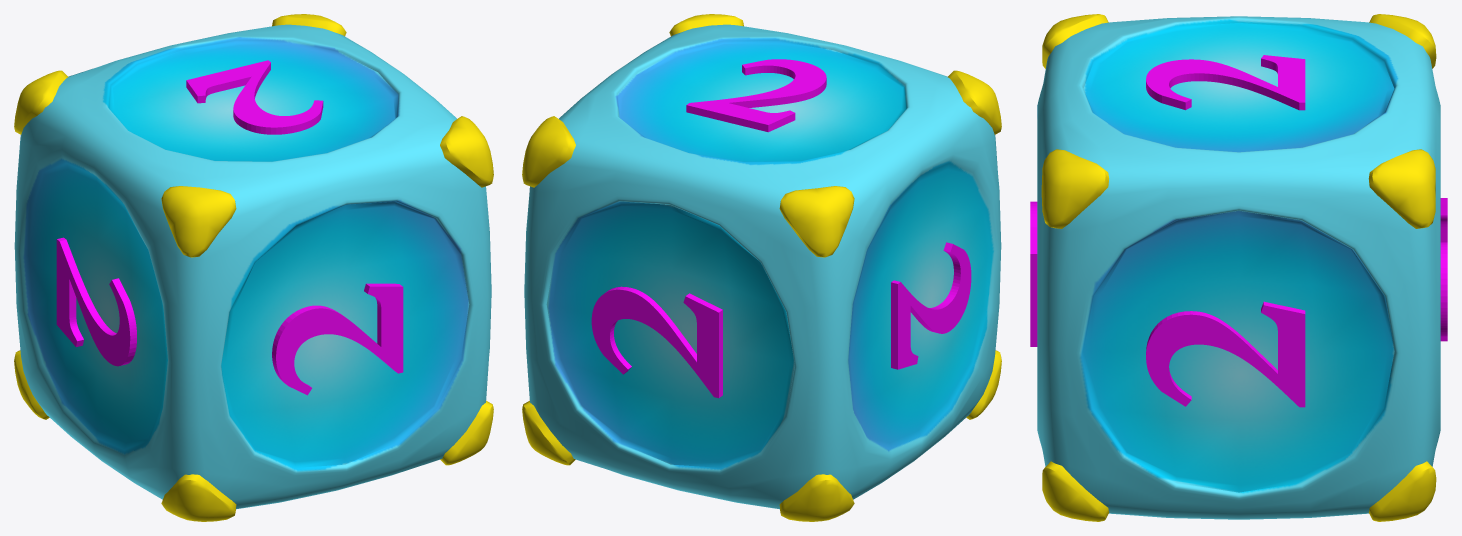
File: Dice2.fbx
The picture shows the model from 3 angles, left to right: view 1: azimuth 30°, elevation 25°; view 2: azimuth 150°, elevation 25°; view 3: azimuth 270°, elevation 25°; orthographic projection. The views are drawn at different scales.
Visible parts, largest first — view 1: Cube.002, acessery, Text6_02, Text_02, Text3_02; view 2: Cube.002, acessery, Text5_02, Text3_02, Text_02; view 3: Cube.002, acessery, Text4_02, Text3_02, Text6_02, Text5_02.
Part boxes in pixels (x1,y1,x2,y2): Cube.002: (14, 24, 491, 509); acessery: (14, 14, 493, 521); Text6_02: (272, 283, 403, 395); Text_02: (56, 237, 136, 366); Text3_02: (186, 60, 323, 134); Cube.002: (524, 24, 1001, 509); acessery: (522, 14, 1001, 521); Text5_02: (591, 286, 722, 398); Text3_02: (686, 59, 826, 132); Text_02: (891, 242, 971, 369); Cube.002: (1037, 16, 1440, 519); acessery: (1041, 14, 1436, 521); Text4_02: (1146, 301, 1305, 407); Text3_02: (1146, 55, 1305, 110); Text6_02: (1030, 201, 1037, 346); Text5_02: (1440, 198, 1447, 341).
Size of the model in its own units: 203 by 203 by 203.
